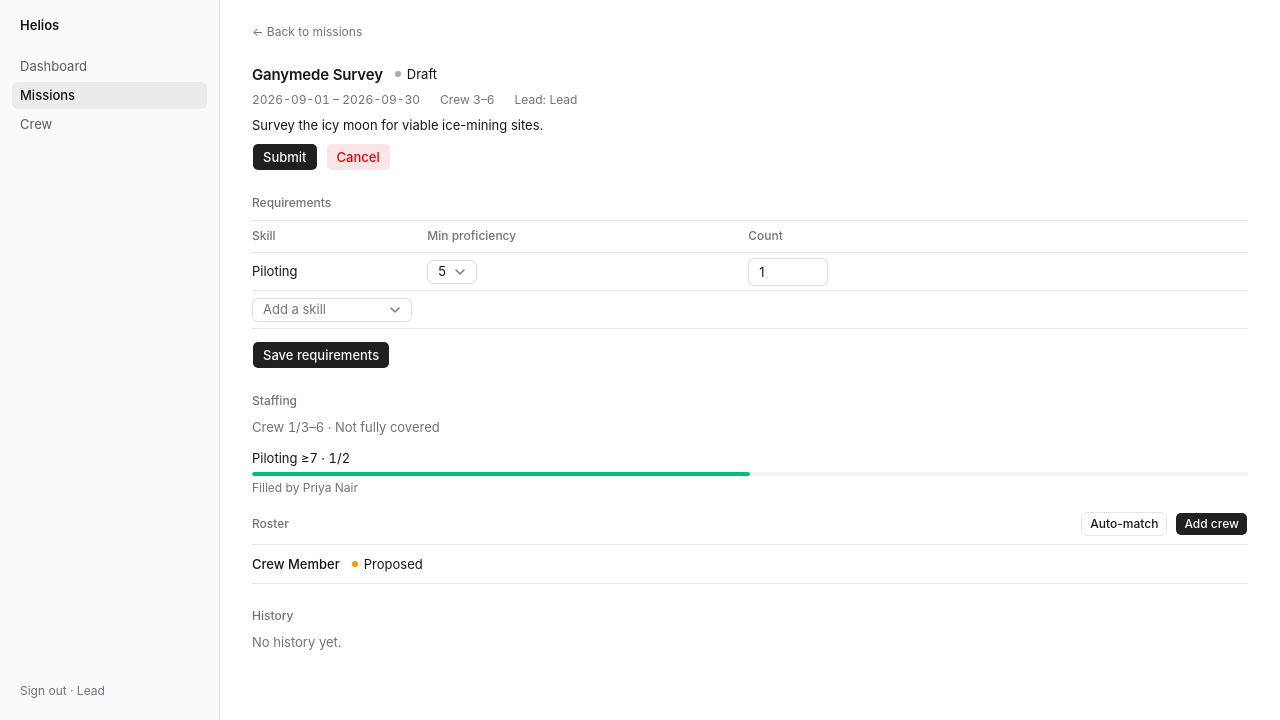
Test case: staffing panel › excludes a crew member already on the roster from the Add crew candidate list
This screenshot has width=1280, height=720.
Click the button "Add crew" at [1212, 524], box [1175, 512, 1248, 536]
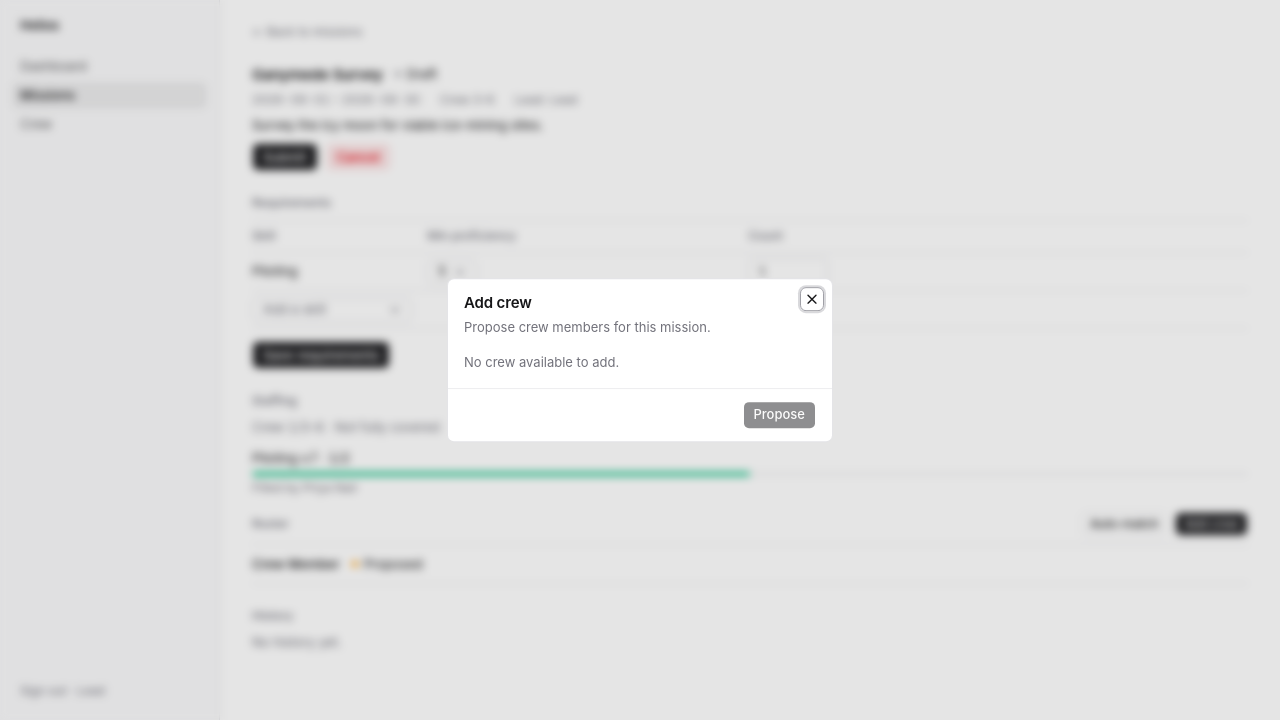
expect the text "No crew available to add." is shown: met, box [464, 354, 619, 370]
